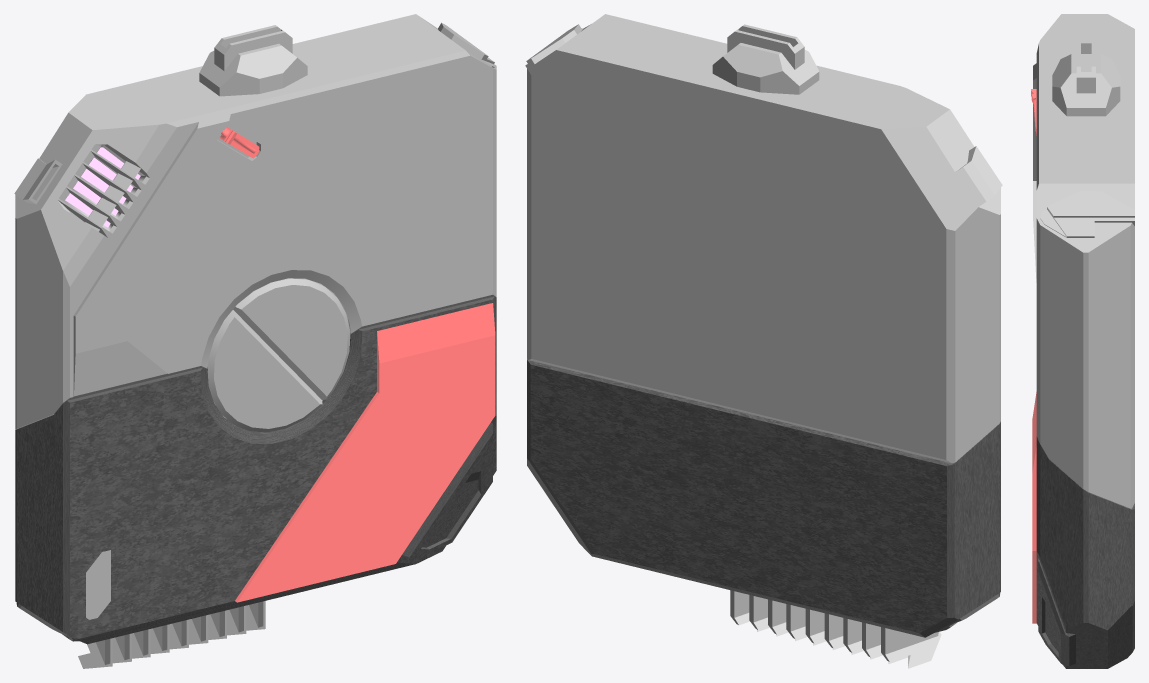
File: ivan-scene001-baked.glb
The picture shows the model from 3 angles, left to right: view 1: azimuth 30°, elevation 25°; view 2: azimuth 150°, elevation 25°; view 3: azimuth 270°, elevation 25°; orthographic projection. The views are drawn at different scales.
Parts seen in each view (by area): view 1: MAIN, Solid.001, Extruded.065, Extruded.067, Extruded.048, Extruded.089; view 2: MAIN, Solid.001, Extruded.089; view 3: MAIN, Solid.001, Extruded.065.
Boxes of the visible parts, x1,y1,x2,y2 form: MAIN: [14, 14, 496, 429]; Solid.001: [15, 296, 496, 644]; Extruded.065: [235, 303, 495, 602]; Extruded.067: [207, 278, 350, 432]; Extruded.048: [86, 550, 110, 619]; Extruded.089: [78, 638, 112, 668]; MAIN: [525, 14, 1002, 463]; Solid.001: [527, 358, 1000, 637]; Extruded.089: [881, 627, 941, 668]; MAIN: [1033, 14, 1134, 508]; Solid.001: [1036, 436, 1134, 668]; Extruded.065: [1032, 392, 1036, 623].
Bounding box in the file's own units: 0.6584 × 0.7794 × 0.1284.
Materials: 5 (2 with a texture image).
